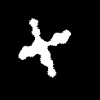single_crochet: (19, 19, 70, 76)
